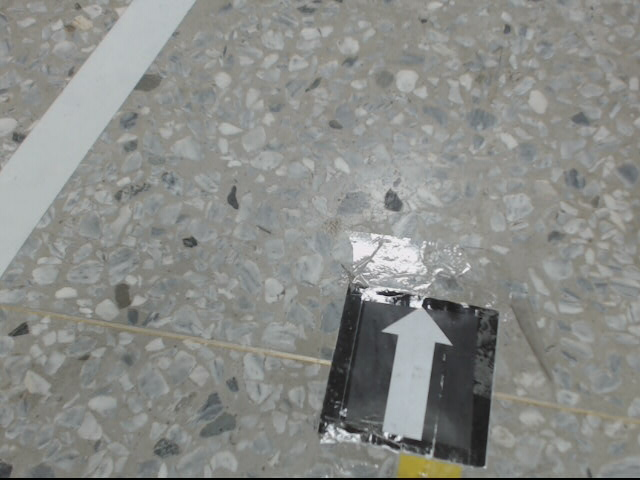straight: (319, 284, 501, 466)
